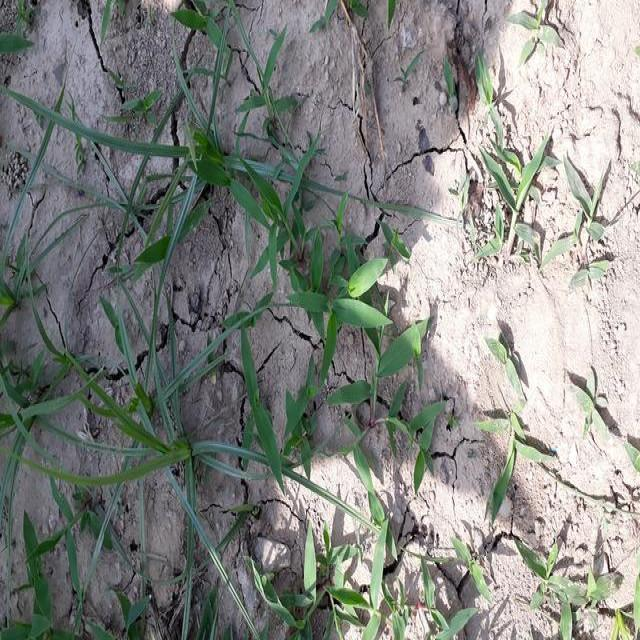weed: (0, 241, 282, 640), (21, 84, 327, 224), (298, 453, 417, 640), (482, 150, 624, 294), (292, 240, 380, 396), (522, 536, 640, 640), (484, 337, 548, 520), (575, 386, 640, 489)
